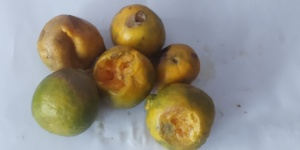BAD: (32, 69, 100, 140), (144, 84, 213, 150), (39, 14, 105, 72), (95, 47, 156, 109), (109, 3, 164, 59), (150, 42, 200, 86)
